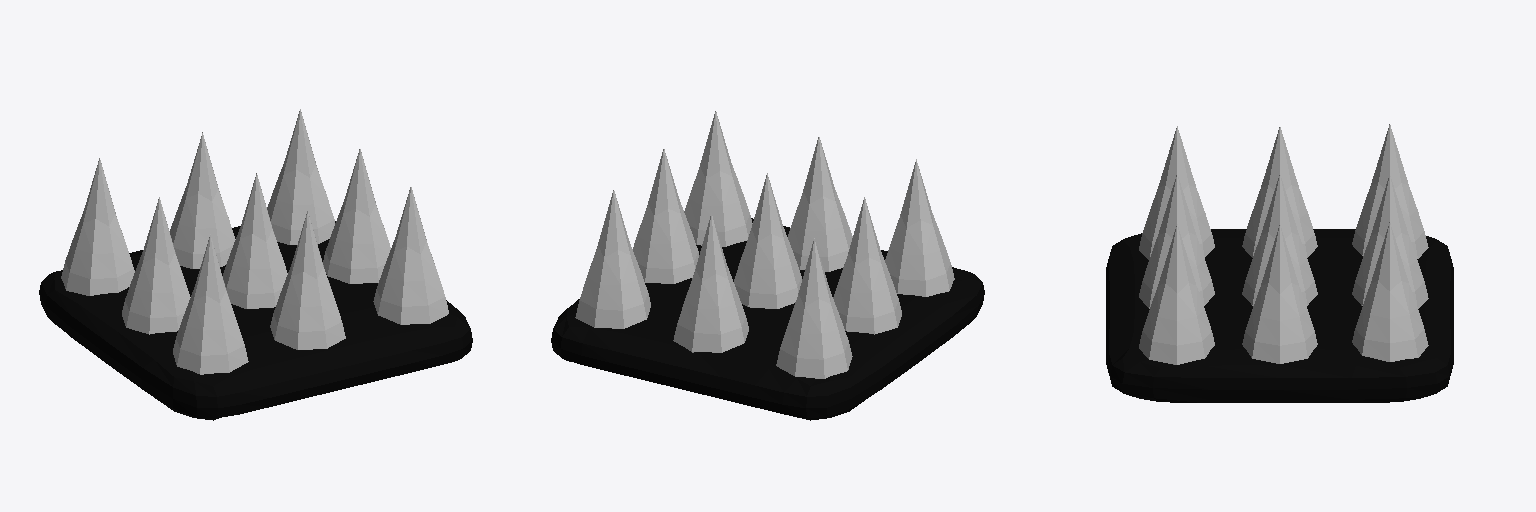
File: model_spikes.obj
3 views of the same model, side by side, from view 1: azimuth 30°, elevation 25°; view 2: azimuth 150°, elevation 25°; view 3: azimuth 270°, elevation 25° (orthographic).
Visible parts, largest first — view 1: Spikes; view 2: Spikes; view 3: Spikes.
Part boxes in pixels (bbox=[...]): Spikes: bbox=[39, 109, 472, 420]; Spikes: bbox=[551, 111, 984, 420]; Spikes: bbox=[1106, 124, 1453, 402].
Size of the model in its own units: 3.49 by 1.84 by 3.49.